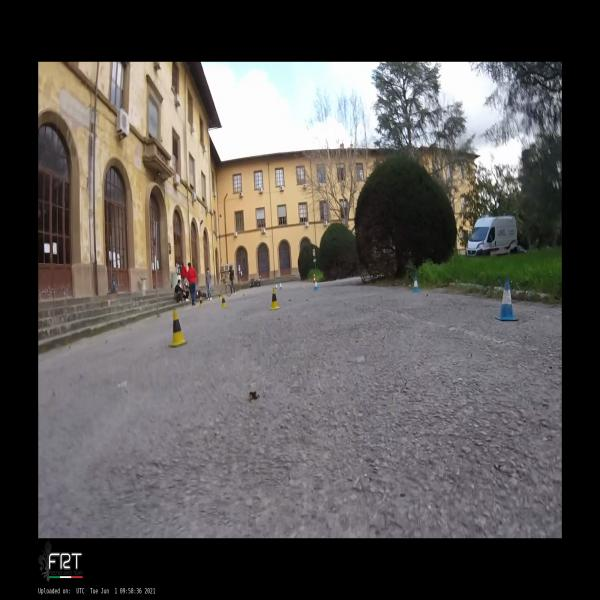blue_cone: (495, 278, 518, 322), (412, 276, 421, 292), (314, 280, 318, 290), (275, 283, 278, 290), (280, 282, 282, 290)
large_orange_cone: (313, 273, 316, 283)
orange_cone: (196, 291, 199, 297)
yellow_cone: (168, 308, 187, 347), (270, 287, 280, 310), (221, 294, 227, 309), (199, 296, 204, 307), (218, 293, 221, 299)
